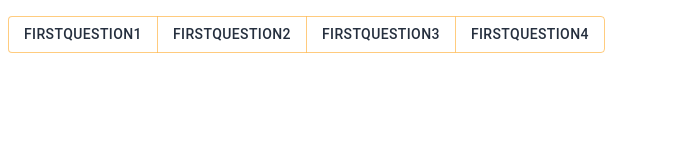
Test case: Quiz screen › Quiz buttons › should change question when first answer button clicked
This screenshot has width=692, height=160.
Click the button "firstQuestion1": (83, 34) [8, 16, 158, 52]
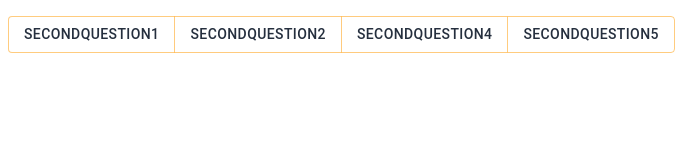
Now the text "secondQuestion1" is shown, box [8, 16, 176, 52]
Now the text "secondQuestion2" is shown, box [174, 16, 342, 52]
Now the text "secondQuestion4" is shown, box [341, 16, 508, 52]
